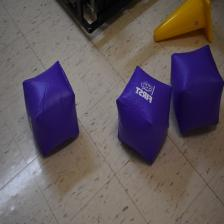cone: (154, 0, 212, 42)
cube: (116, 66, 172, 164), (23, 60, 79, 156), (170, 45, 224, 135)
